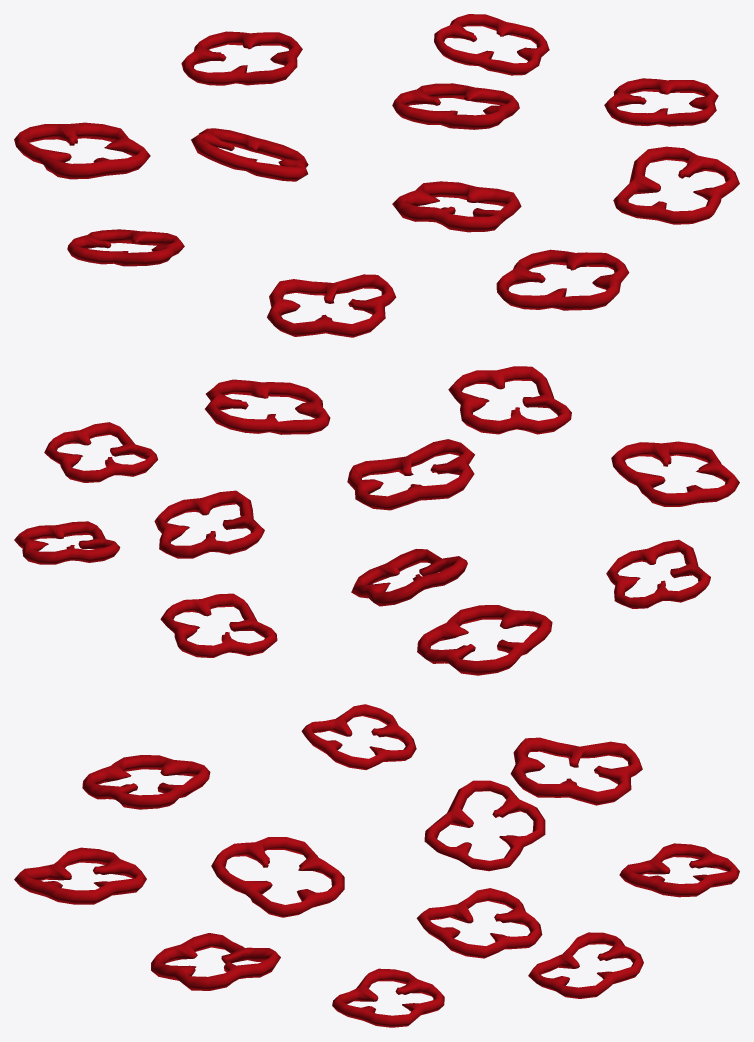
The model's file is pepper_red_topping.fbx.
3 renders of one model, top to bottom at view 1: azimuth 30°, elevation 25°; view 2: azimuth 150°, elevation 25°; view 3: azimuth 270°, elevation 25°, orthographic. The views are drawn at different scales.
Parts seen in each view (by area): view 1: pepper_red.002, pepper_red.008, pepper_red.010, pepper_red.003, pepper_red.009, pepper_red.005, pepper_red, pepper_red.007, pepper_red.006, pepper_red.004, pepper_red.001; view 2: pepper_red.008, pepper_red.009, pepper_red.003, pepper_red.010, pepper_red.002, pepper_red, pepper_red.005, pepper_red.007, pepper_red.001, pepper_red.004, pepper_red.006; view 3: pepper_red.008, pepper_red.009, pepper_red.010, pepper_red.007, pepper_red.002, pepper_red.003, pepper_red, pepper_red.005, pepper_red.001, pepper_red.006, pepper_red.004.
Boxes of the visible parts, <box> form: pepper_red.002: <box>267,274,396,337</box>; pepper_red.008: <box>14,122,150,179</box>; pepper_red.010: <box>496,249,629,310</box>; pepper_red.003: <box>613,146,739,224</box>; pepper_red.009: <box>392,181,521,232</box>; pepper_red.005: <box>181,31,302,85</box>; pepper_red: <box>392,83,519,129</box>; pepper_red.007: <box>191,128,308,181</box>; pepper_red.006: <box>434,14,549,75</box>; pepper_red.004: <box>604,78,718,126</box>; pepper_red.001: <box>67,229,184,266</box>; pepper_red.008: <box>417,605,552,675</box>; pepper_red.009: <box>347,439,474,510</box>; pepper_red.003: <box>205,379,330,434</box>; pepper_red.010: <box>448,366,571,434</box>; pepper_red.002: <box>611,441,739,506</box>; pepper_red: <box>154,490,264,558</box>; pepper_red.005: <box>160,593,277,657</box>; pepper_red.007: <box>351,549,467,606</box>; pepper_red.001: <box>606,539,710,608</box>; pepper_red.004: <box>44,422,157,482</box>; pepper_red.006: <box>14,521,120,564</box>; pepper_red.008: <box>510,737,642,805</box>; pepper_red.009: <box>211,837,344,917</box>; pepper_red.010: <box>14,847,146,904</box>; pepper_red.007: <box>424,780,545,871</box>; pepper_red.002: <box>82,755,210,809</box>; pepper_red.003: <box>151,933,280,990</box>; pepper_red: <box>416,888,542,958</box>; pepper_red.005: <box>619,843,739,897</box>; pepper_red.001: <box>301,704,416,769</box>; pepper_red.006: <box>528,932,643,998</box>; pepper_red.004: <box>332,968,444,1027</box>.
Bounding box in the file's own units: 57.38 × 4.1 × 56.7.
